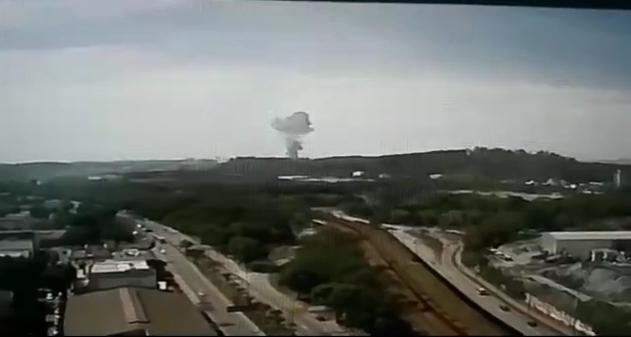smoke: (278, 112, 309, 133)
